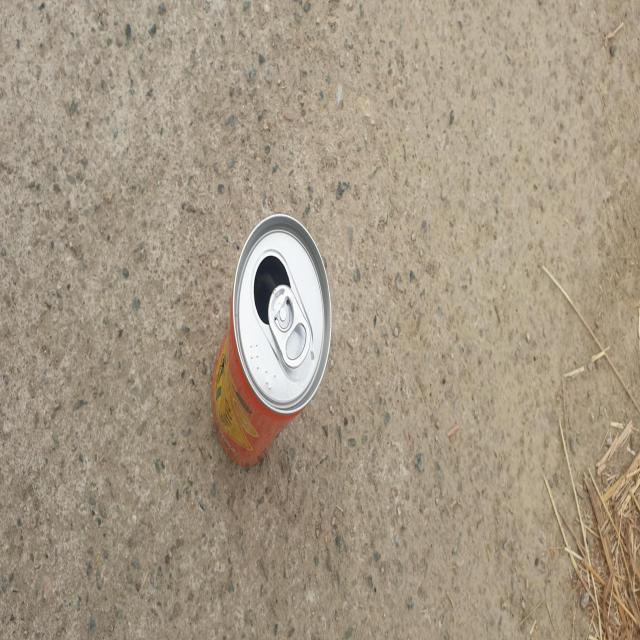can: (212, 213, 332, 466)
